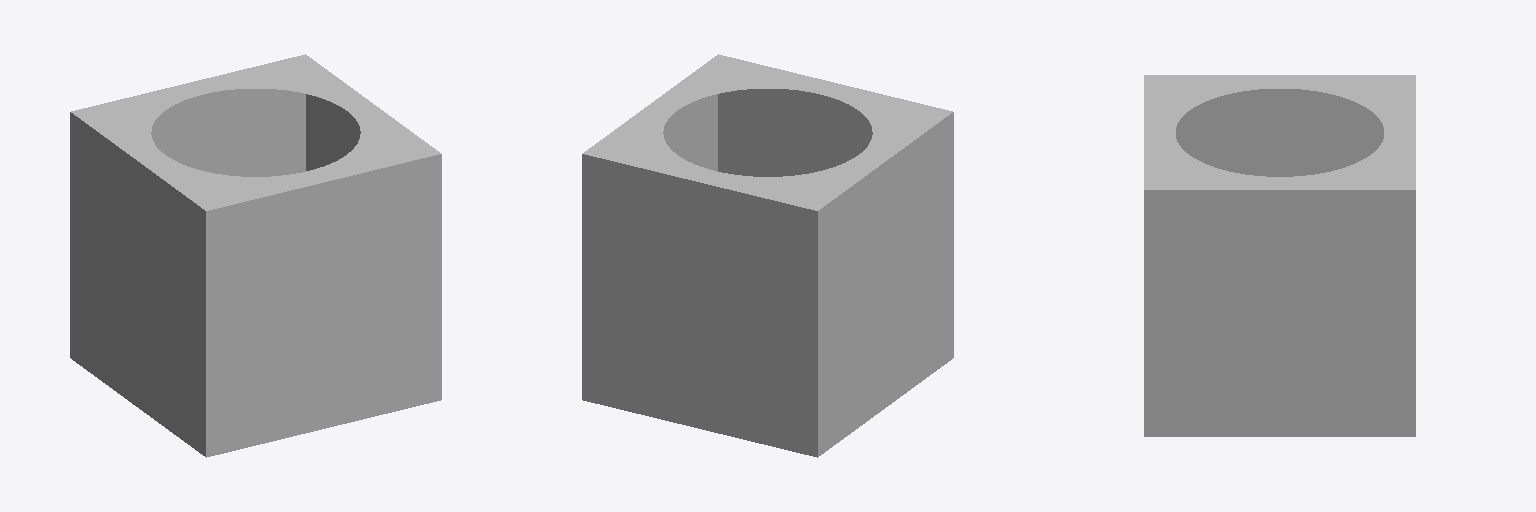
The model's file is Circle_cube_bottle_rotated45_base_preprocessed.obj.
The picture shows the model from 3 angles: view 1: azimuth 30°, elevation 25°; view 2: azimuth 150°, elevation 25°; view 3: azimuth 270°, elevation 25°; orthographic projection.
Bounding box in the file's own units: 0.08 × 0.08 × 0.08.